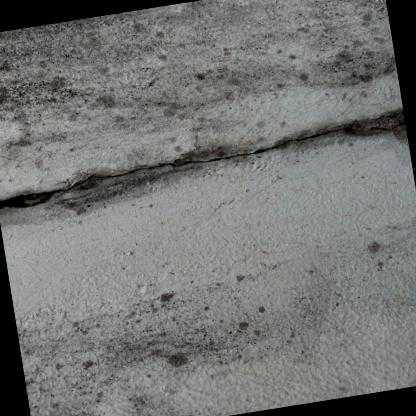crack: (0, 120, 405, 208)
